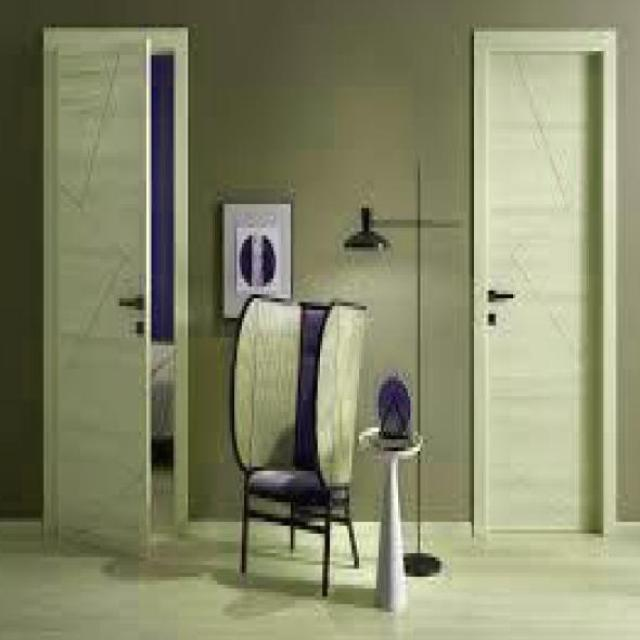door: (472, 26, 610, 537), (42, 33, 159, 562)
